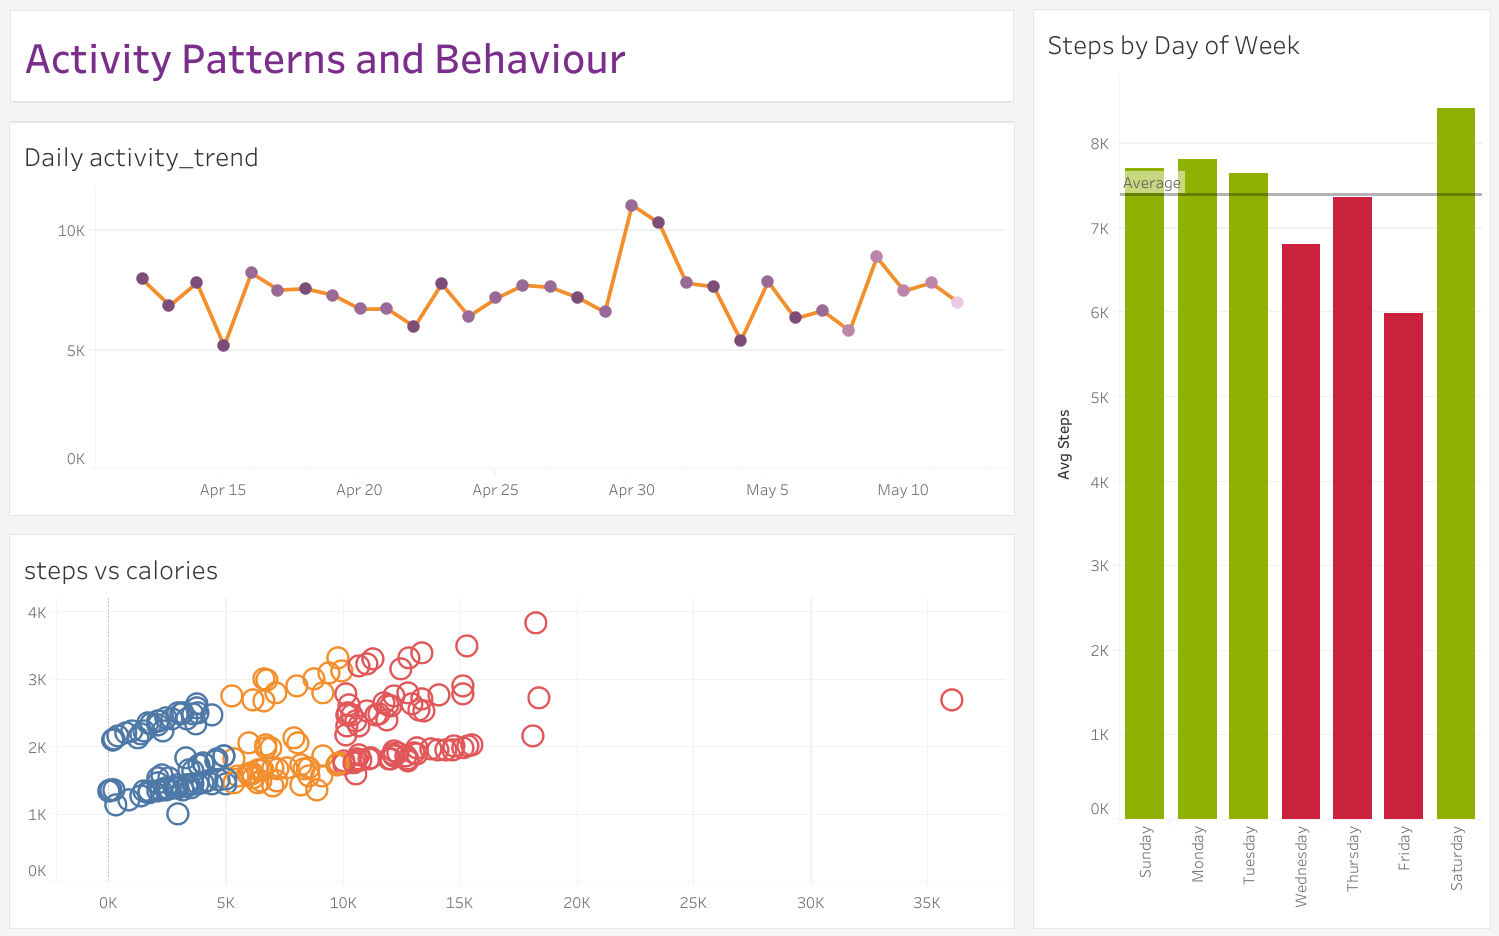

What the dashboard file says about the page in this screenshot:
{"tool":"tableau","page":{"name":"Dashboard 2","canvas":[1200,750],"ordinal":1},"visuals":[{"type":"text","box":[0,0,819,90]},{"type":"worksheet","title":"weekdays avg steps","mark":"Automatic","rows":["avg_steps"],"cols":["day_of_week"],"box":[819,0,381,750]},{"type":"worksheet","title":"Daily activity_trend","mark":"Line","rows":["avg_steps","avg_steps"],"cols":["ActivityDate"],"box":[0,90,819,330]},{"type":"worksheet","title":"steps vs calories","mark":"Automatic","rows":["Calories"],"cols":["TotalSteps"],"box":[0,420,819,330]}]}

Visuals, with their boxes in screenshot pixels (x1, y1, x2, y2), scaled from the page's 1200x750 canvas onto the 1499x936 screenshot:
text: <bbox>0, 0, 1023, 112</bbox>
"weekdays avg steps" worksheet: <bbox>1023, 0, 1498, 935</bbox>
"Daily activity_trend" worksheet (Line marks): <bbox>0, 112, 1023, 524</bbox>
"steps vs calories" worksheet: <bbox>0, 524, 1023, 935</bbox>
